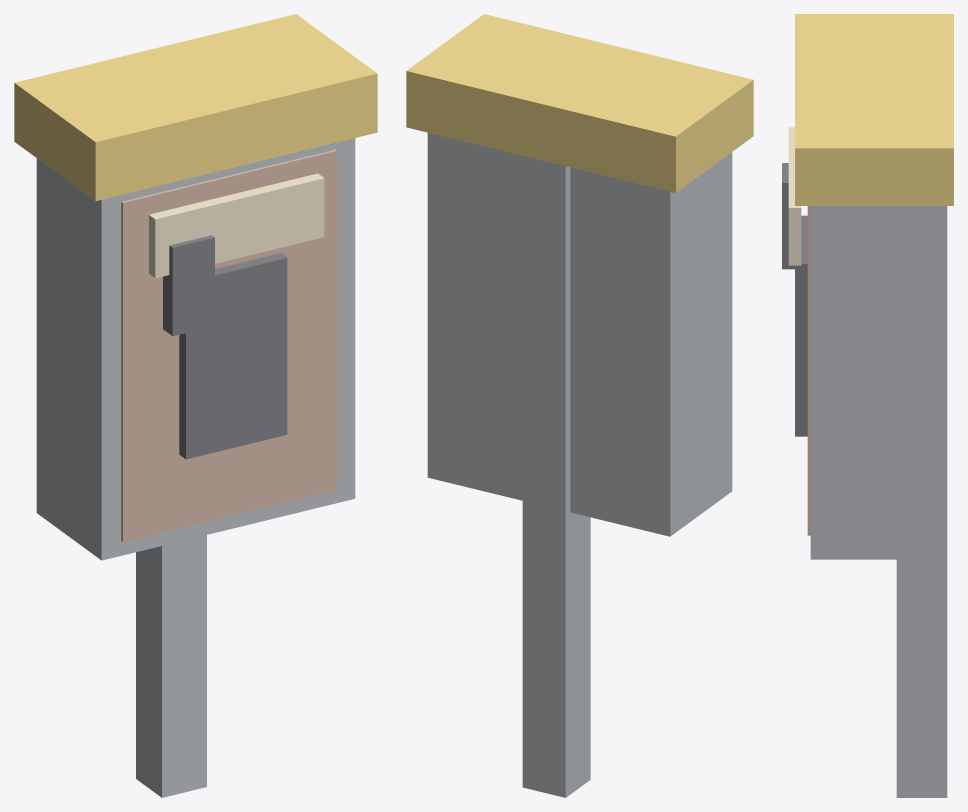
File: payphone.glb
The picture shows the model from 3 angles, left to right: view 1: azimuth 30°, elevation 25°; view 2: azimuth 150°, elevation 25°; view 3: azimuth 270°, elevation 25°; orthographic projection. The views are drawn at different scales.
Visible parts, largest first — view 1: payphone; view 2: payphone; view 3: payphone.
Boxes of the visible parts, <box> form: payphone: <box>14,14,377,797</box>; payphone: <box>406,14,753,797</box>; payphone: <box>782,14,953,797</box>.
Bounding box in the file's own units: 1 × 2.45 × 0.54.
